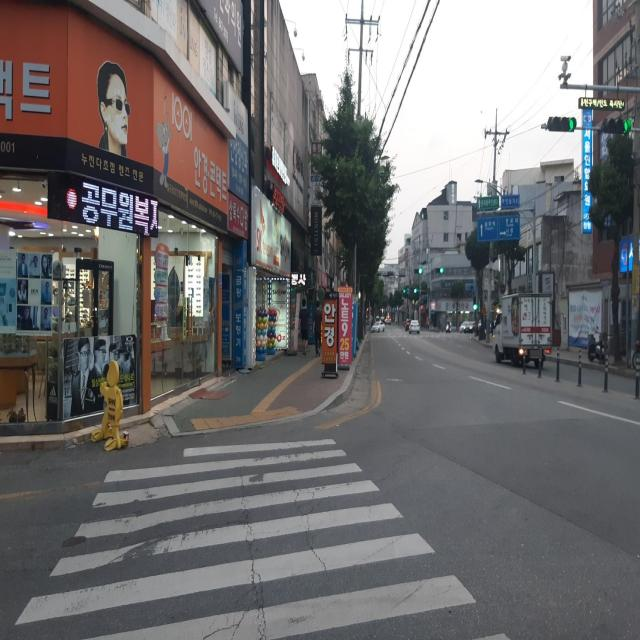횡단보도: (12, 435, 514, 640)
